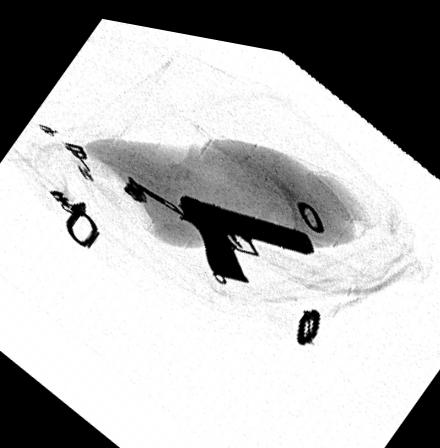Gun: (175, 186, 316, 273)
